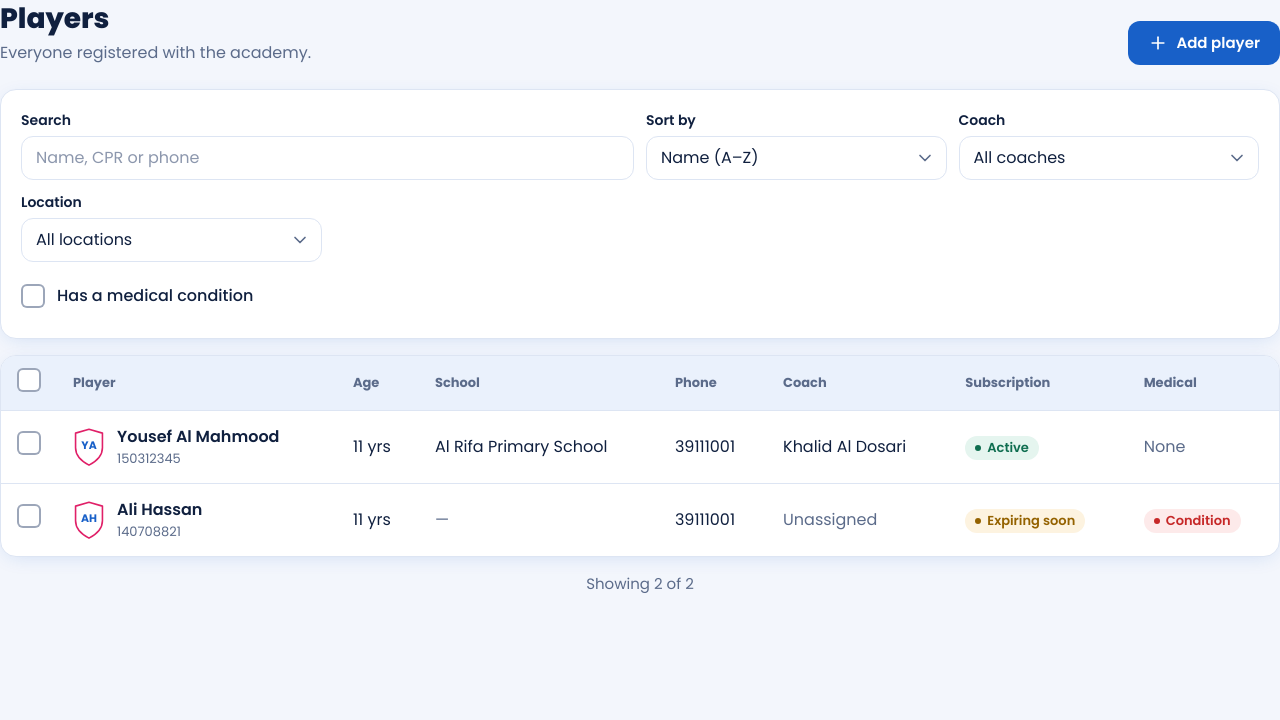
PlayersPage › as an admin › bulk assignment › says so when nothing needed to change
Click the checkbox named "Select Yousef Al Mahmood" at (29, 443), box [7,421,51,465]
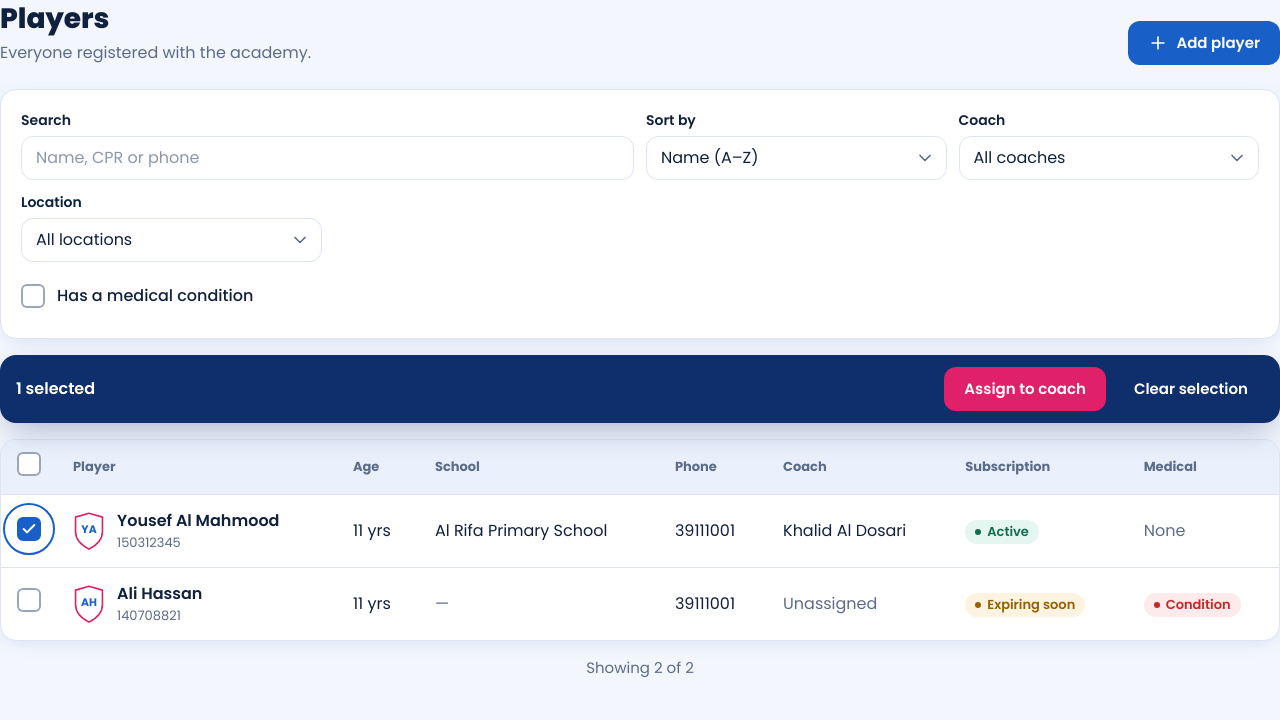
Click the checkbox named "Select Ali Hassan" at (29, 600), box [7,578,51,622]
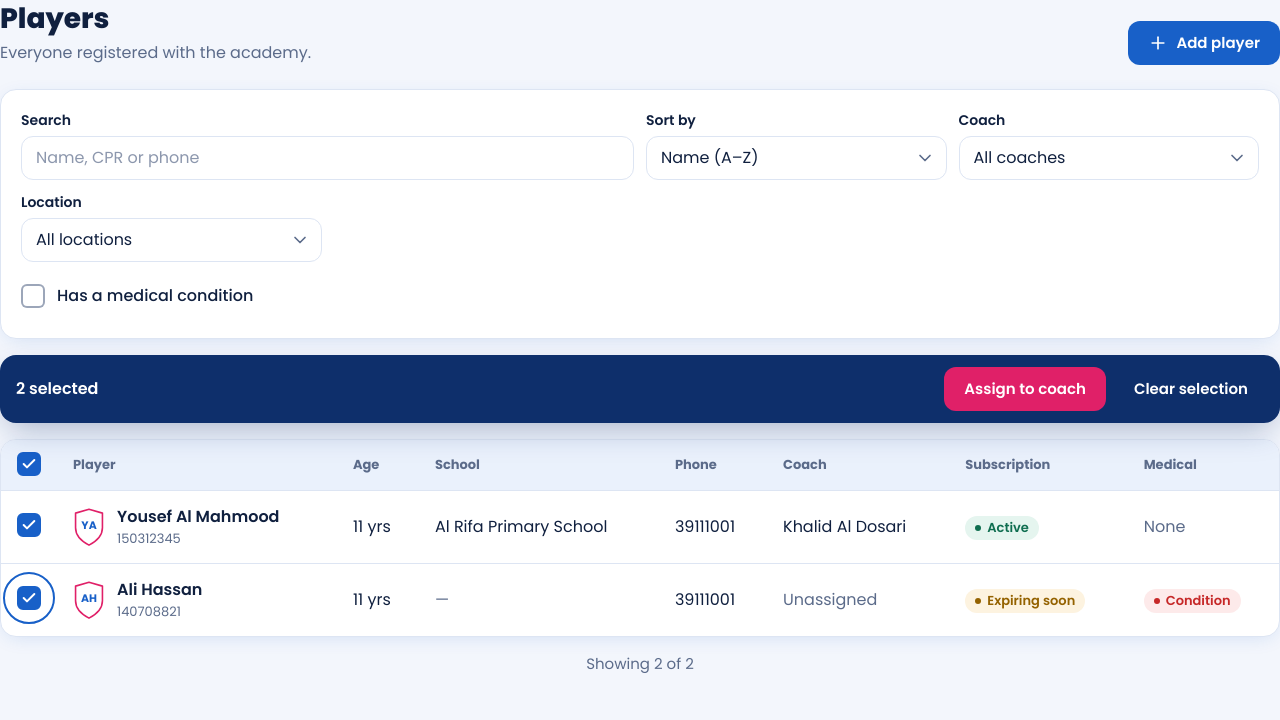
Click the button "Assign to coach" at (1025, 389), box [944,367,1106,411]
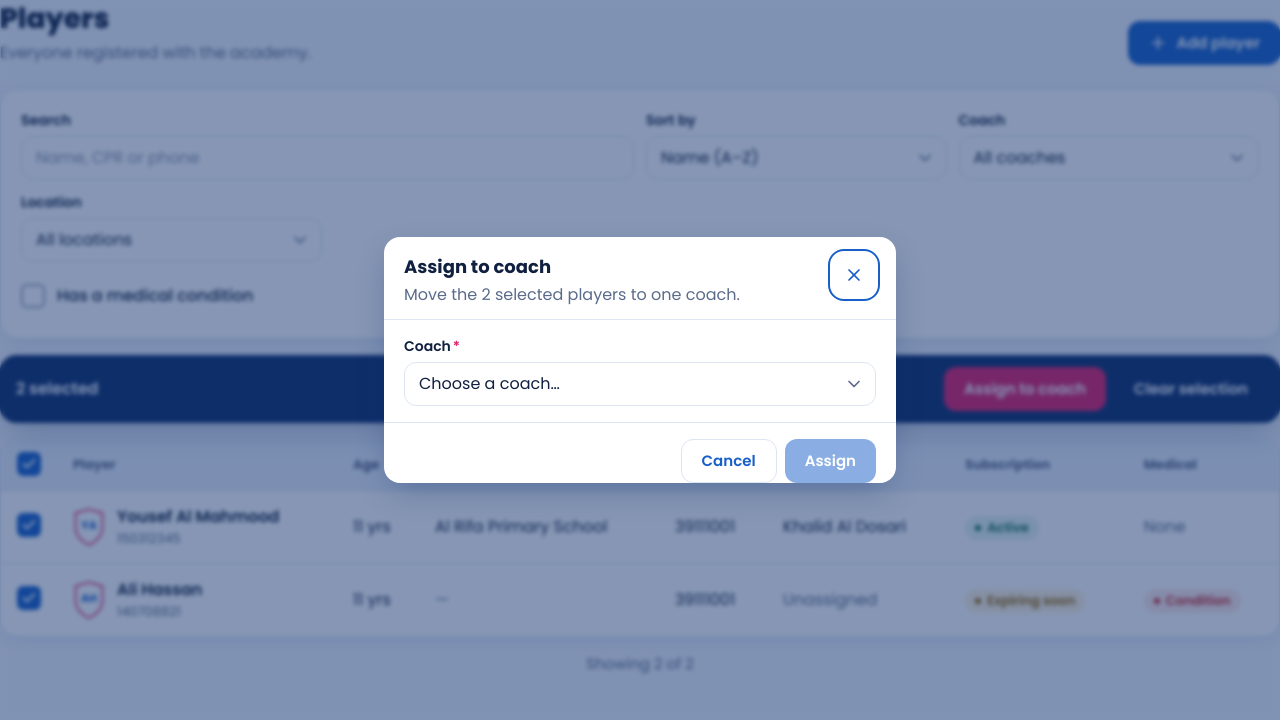
Select "Khalid Al Dosari" in the dropdown labelled "Coach*" at (640, 384), box [404,362,876,406]
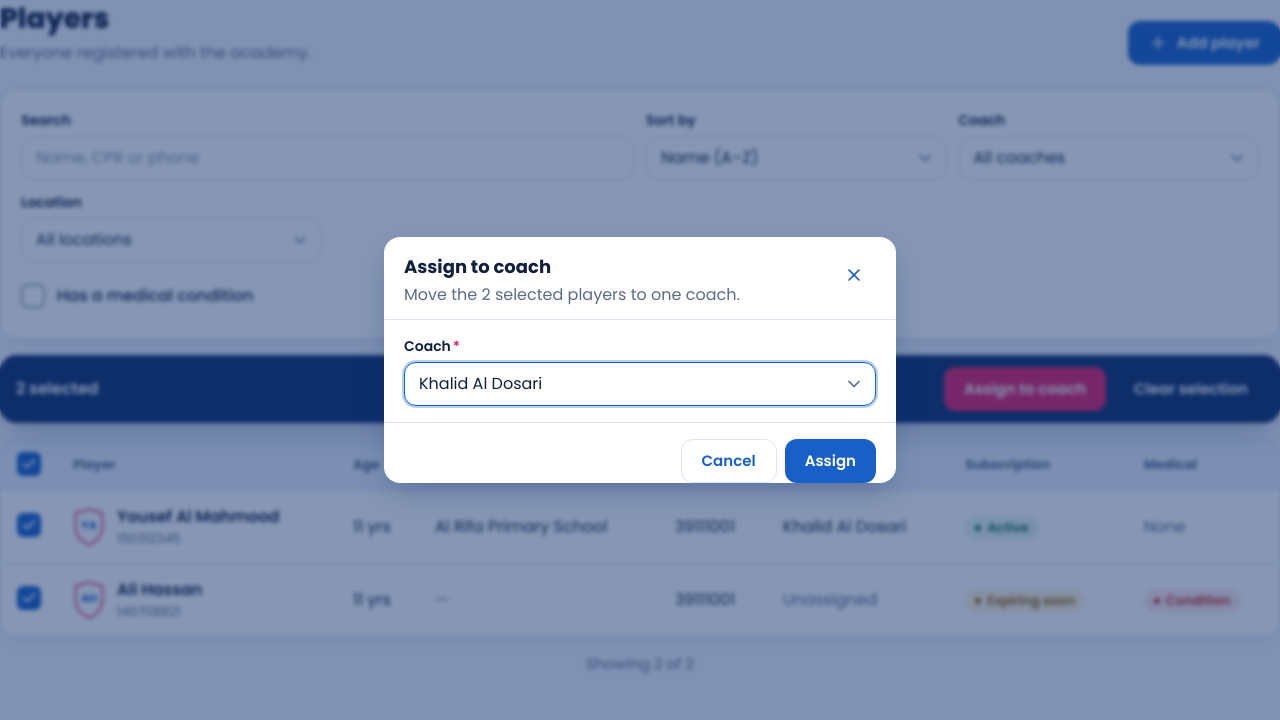
Click the button "Assign" at (830, 461), box [785,439,876,483]
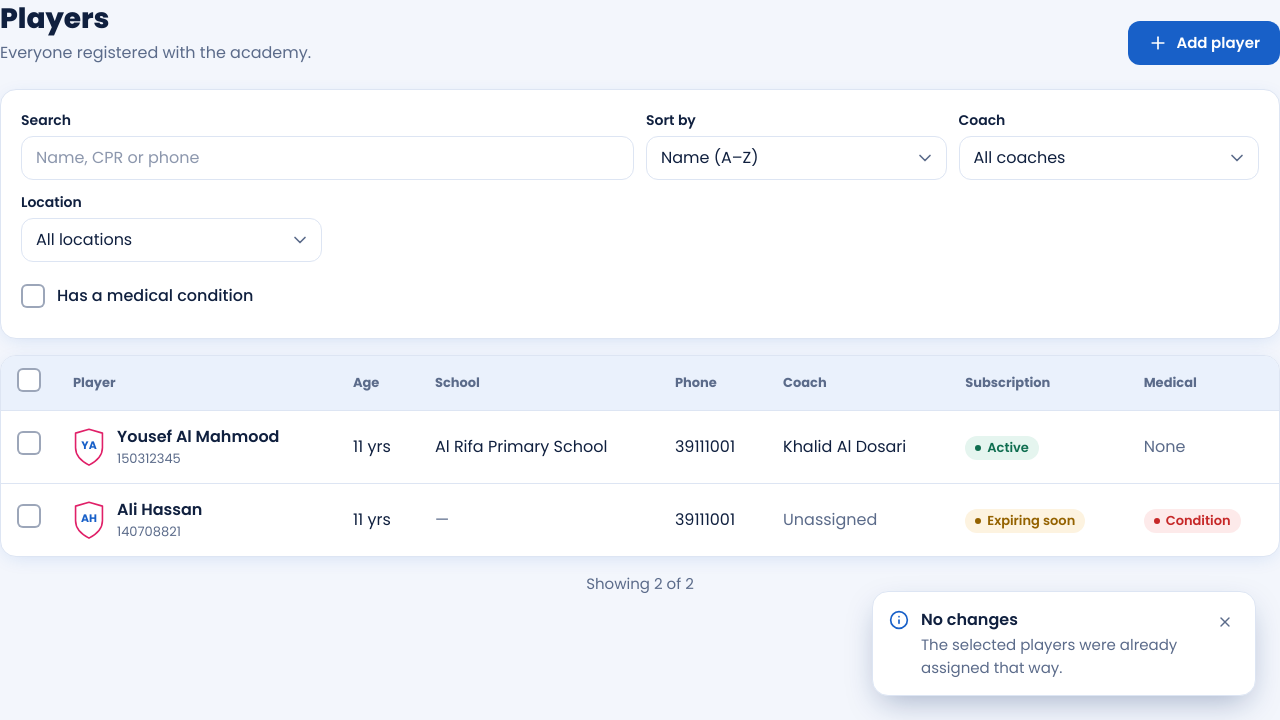
Expected: the text "No changes" is shown, [921,608,1018,631]
